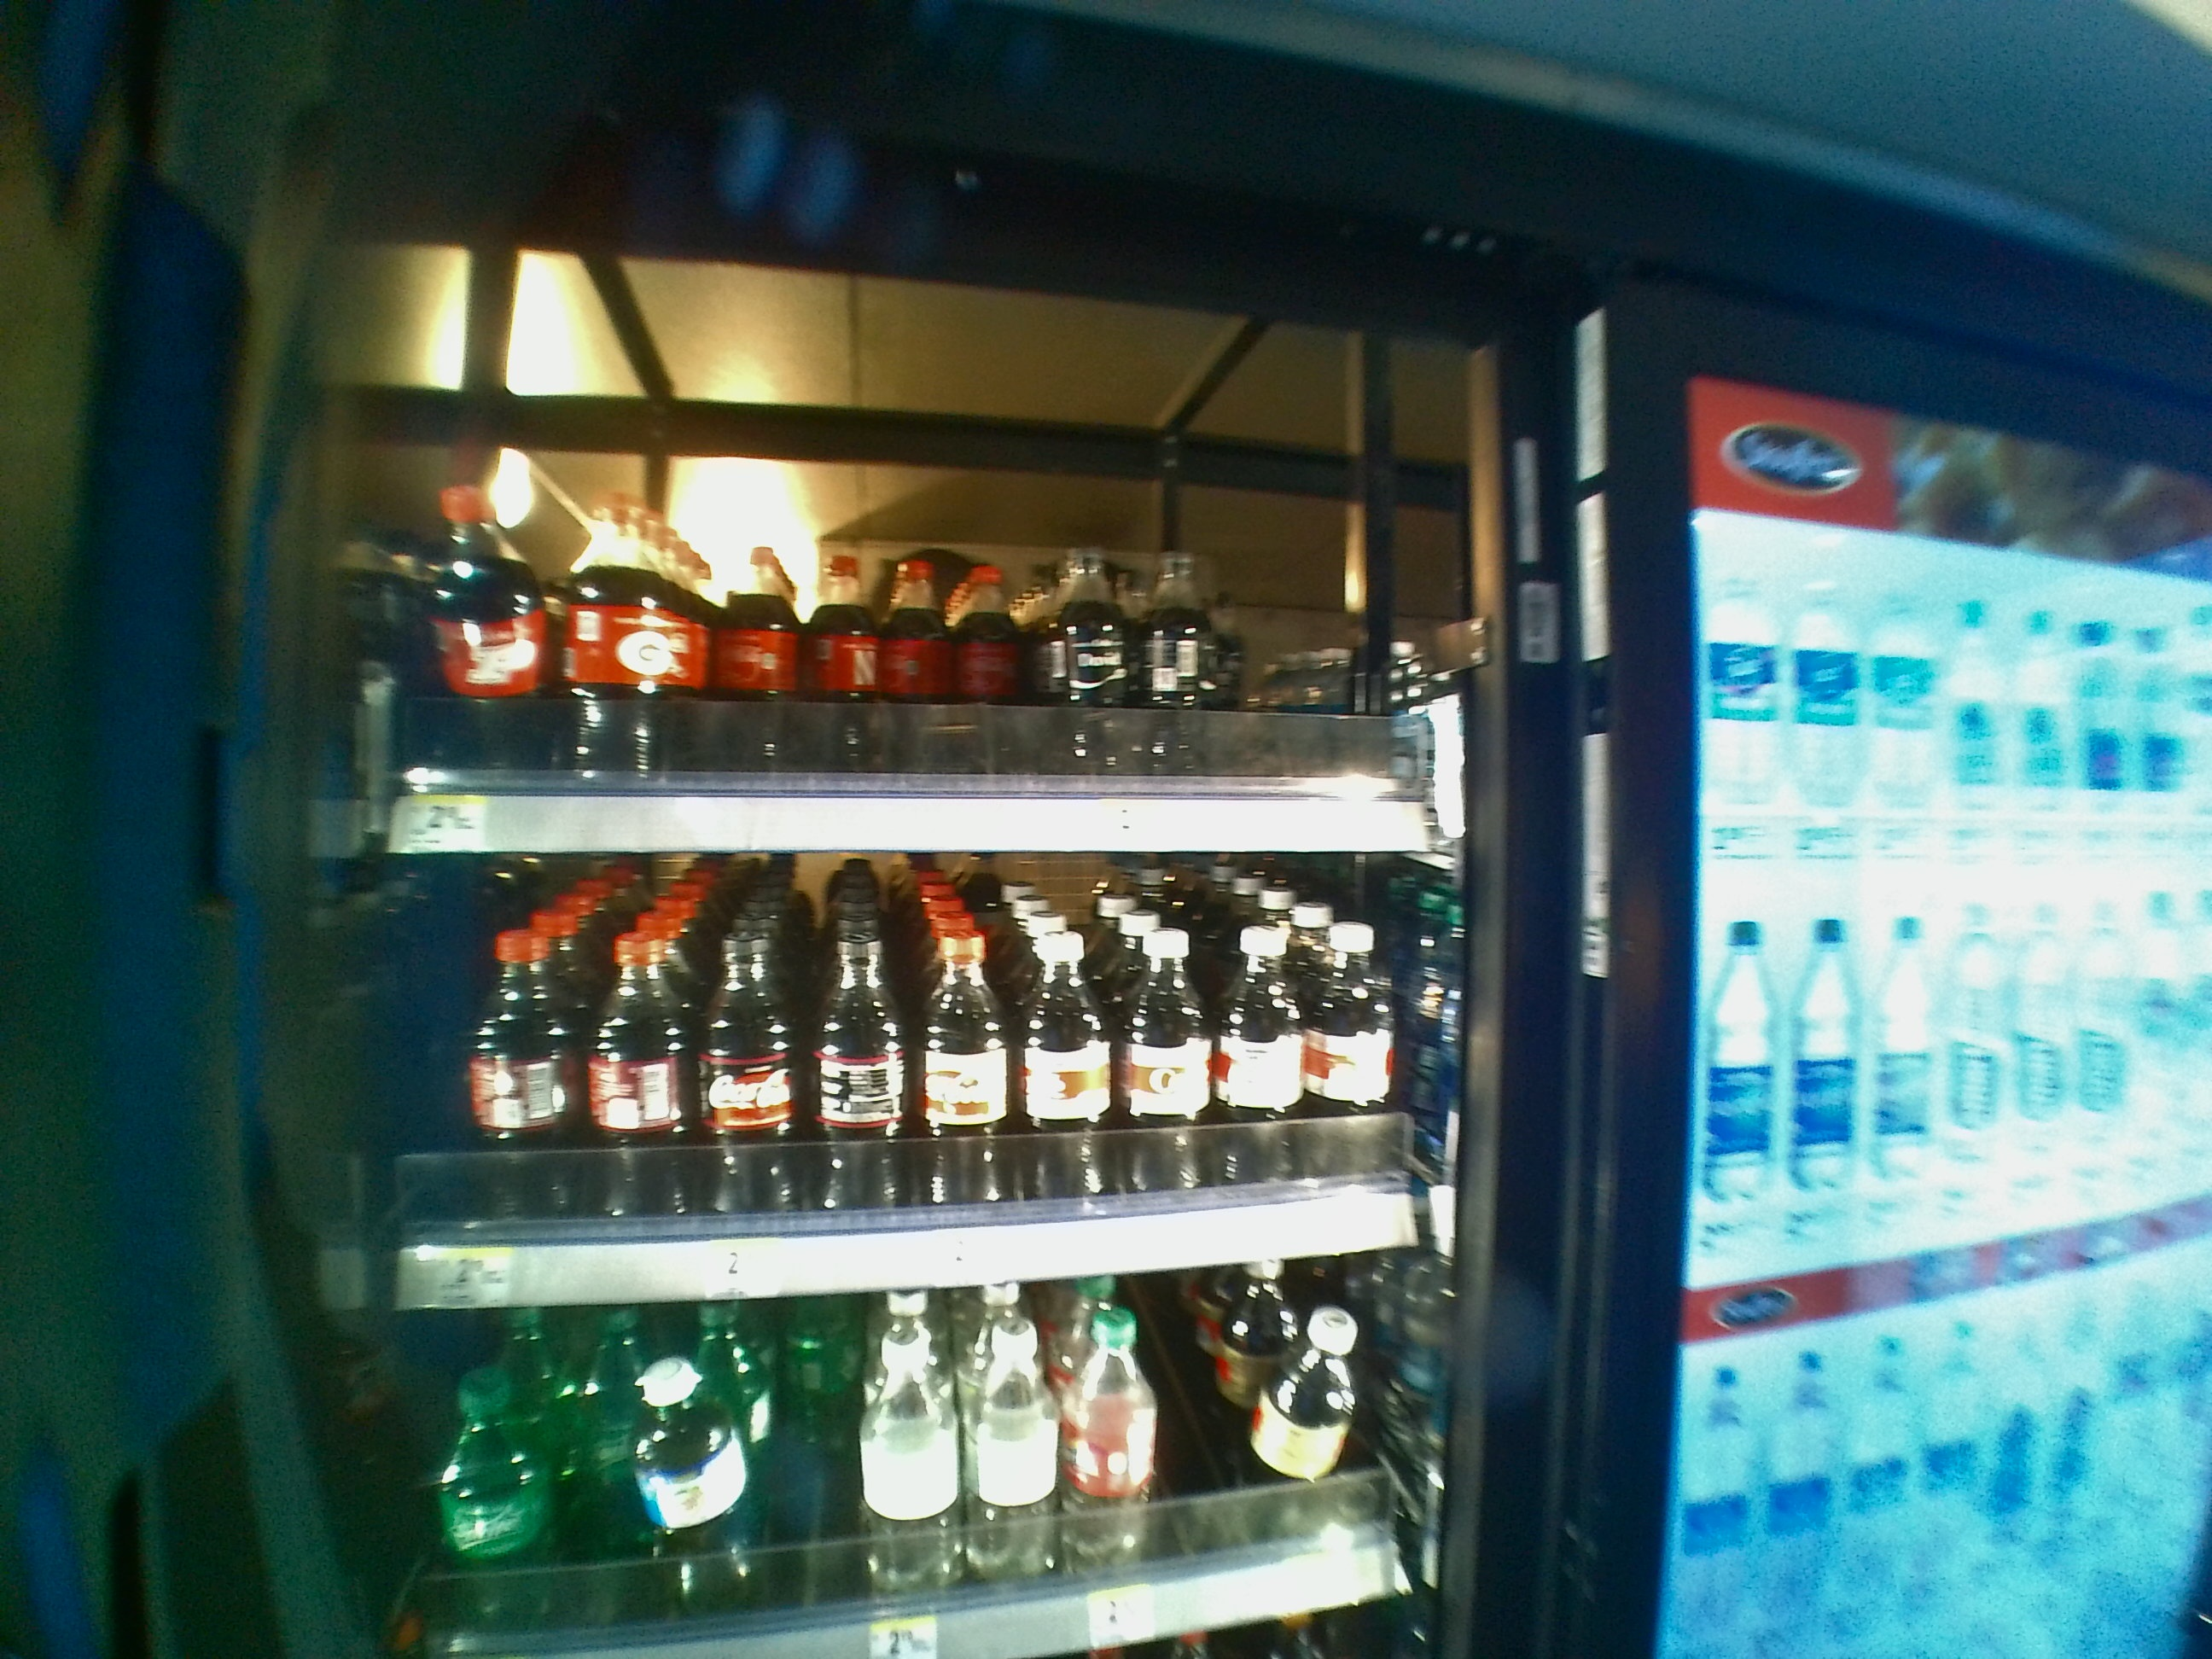shelf: (383, 352, 1435, 852), (388, 864, 1444, 1297)
